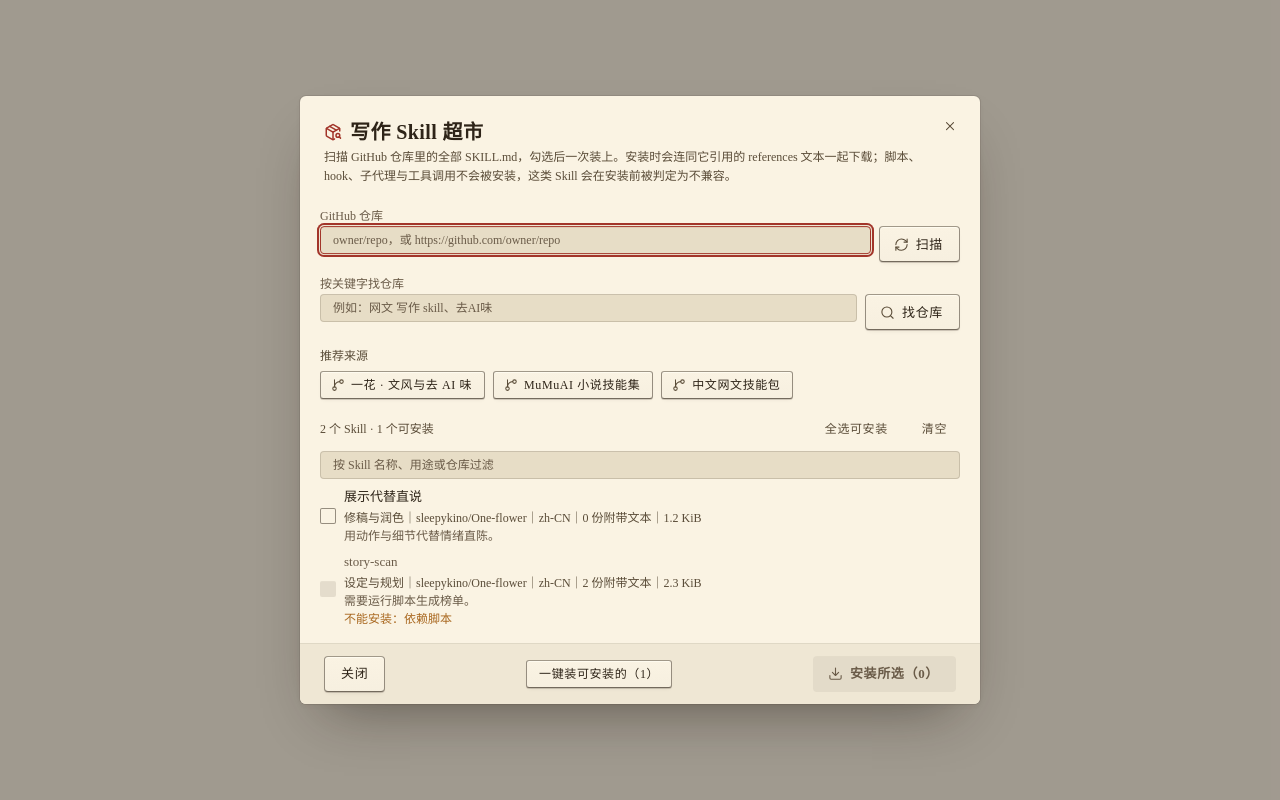
写作 Skill 超市 › 全选可安装的条目，确认后逐个检查并安装
The image size is (1280, 800).
In the field labelled "GitHub 仓库": (595, 240) top-left (320, 226), bottom-right (871, 254), type "sleepykino/One-flower"
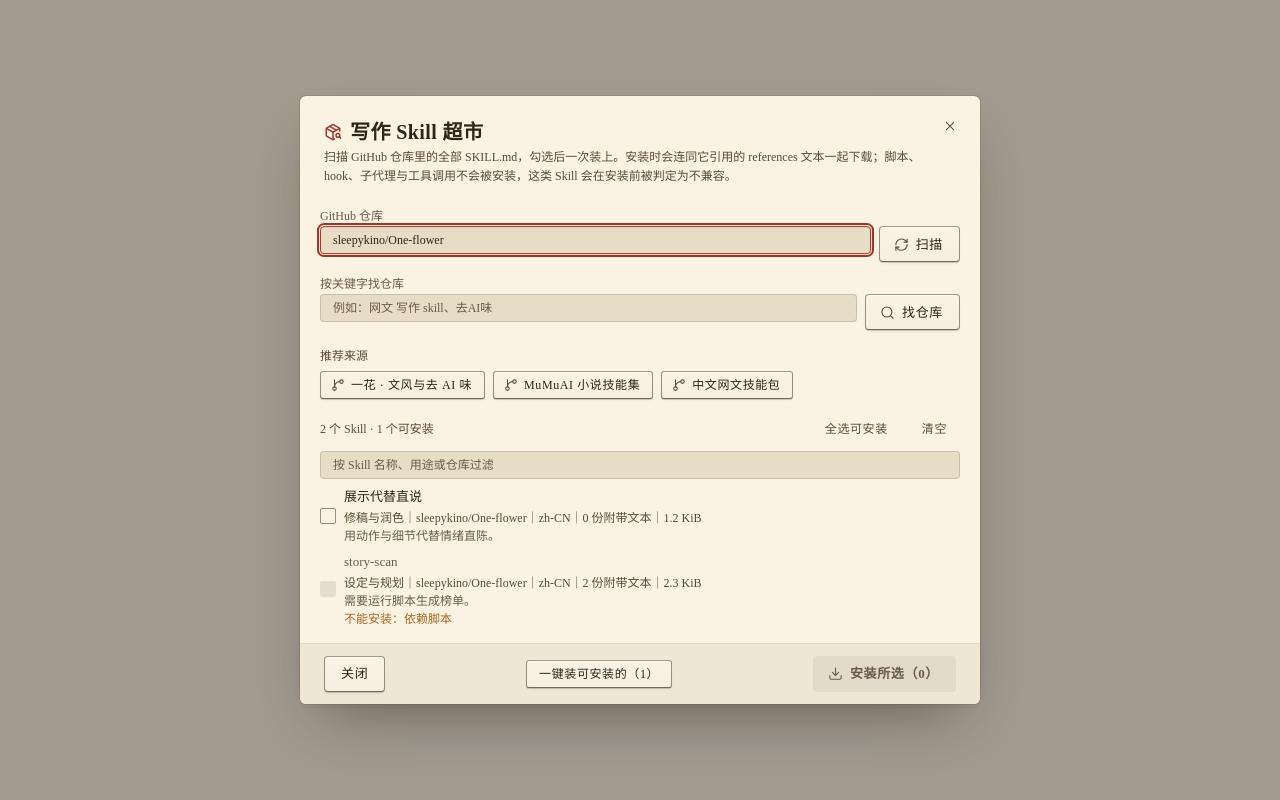
Click the button "扫描": (919, 244) top-left (879, 226), bottom-right (960, 262)
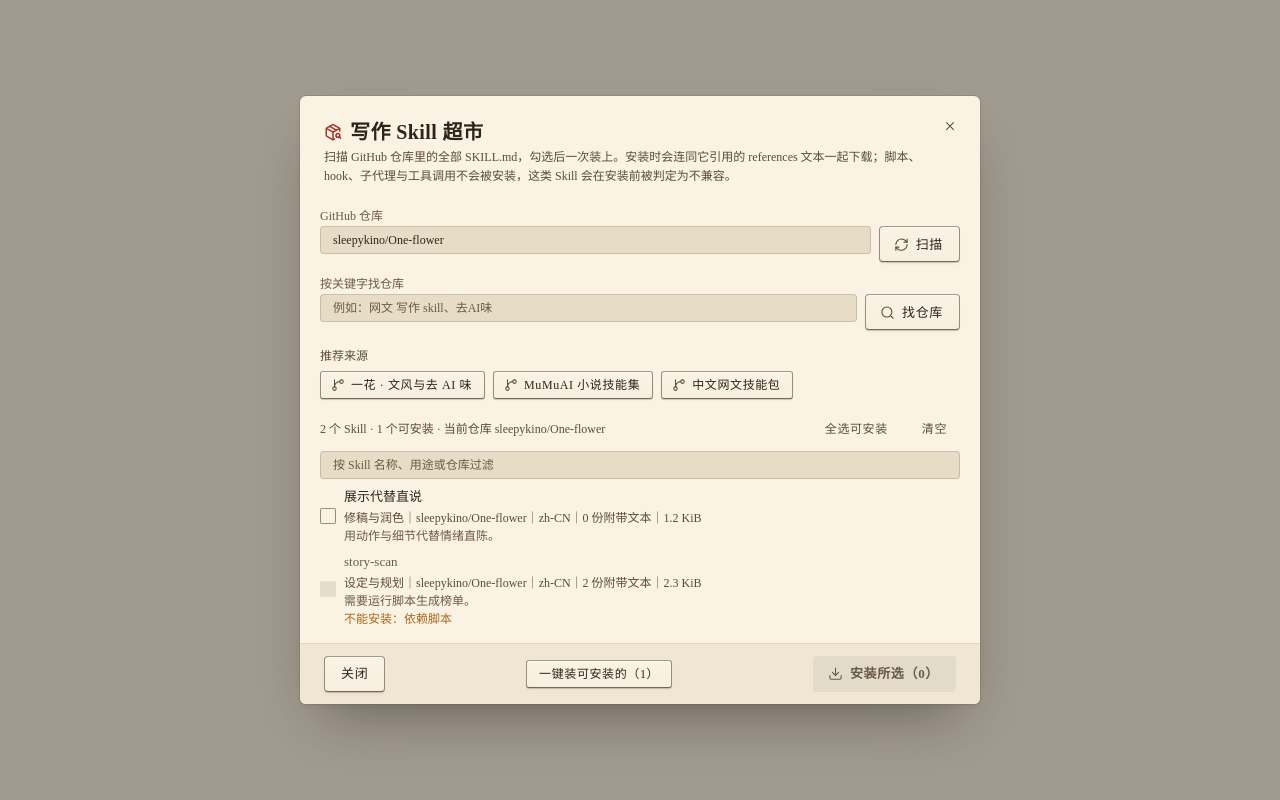
expect the text "展示代替直说" is shown: met, box top-left (344, 489), bottom-right (422, 504)
Click the button "全选可安装": (856, 429) top-left (812, 415), bottom-right (901, 443)
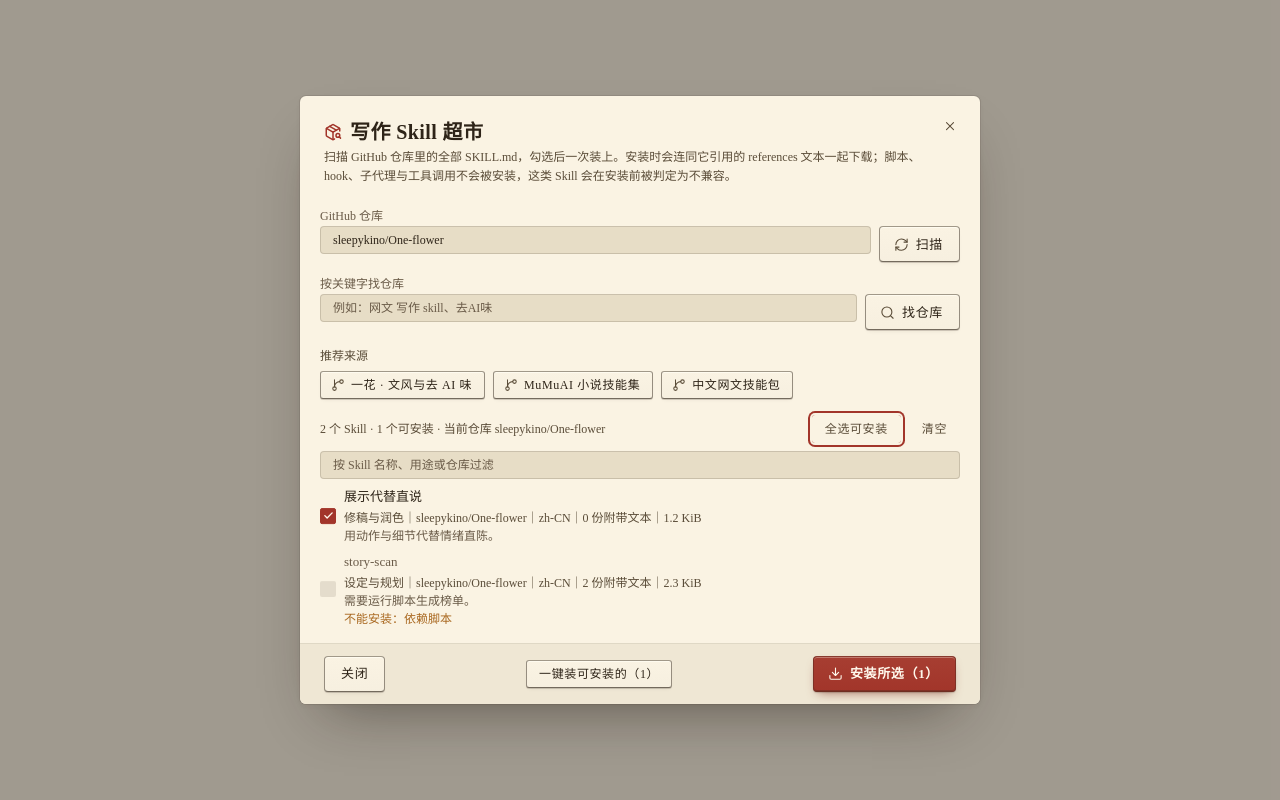
expect the button "安装所选（1）" is enabled: met
Click the button "安装所选（1）": (884, 674) top-left (813, 656), bottom-right (956, 692)
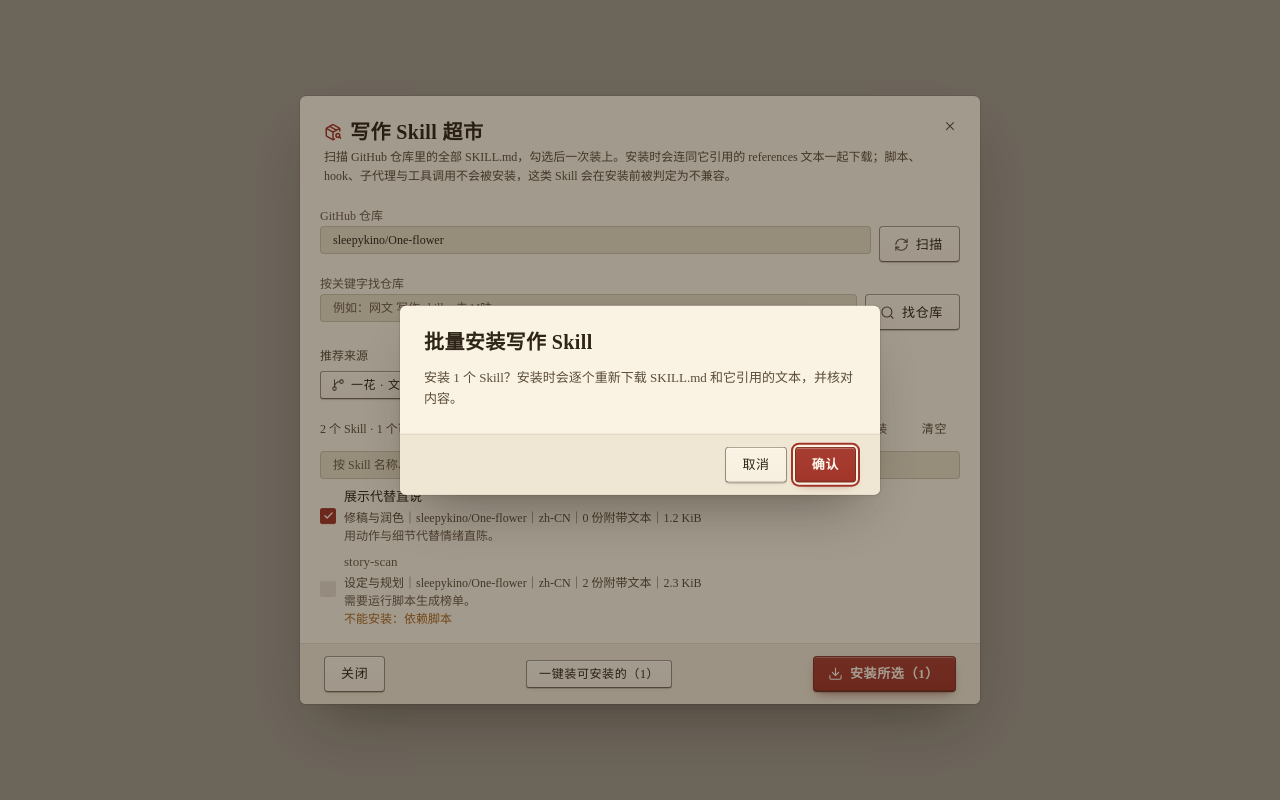
Click the button "确认": (825, 464) top-left (795, 446), bottom-right (856, 482)
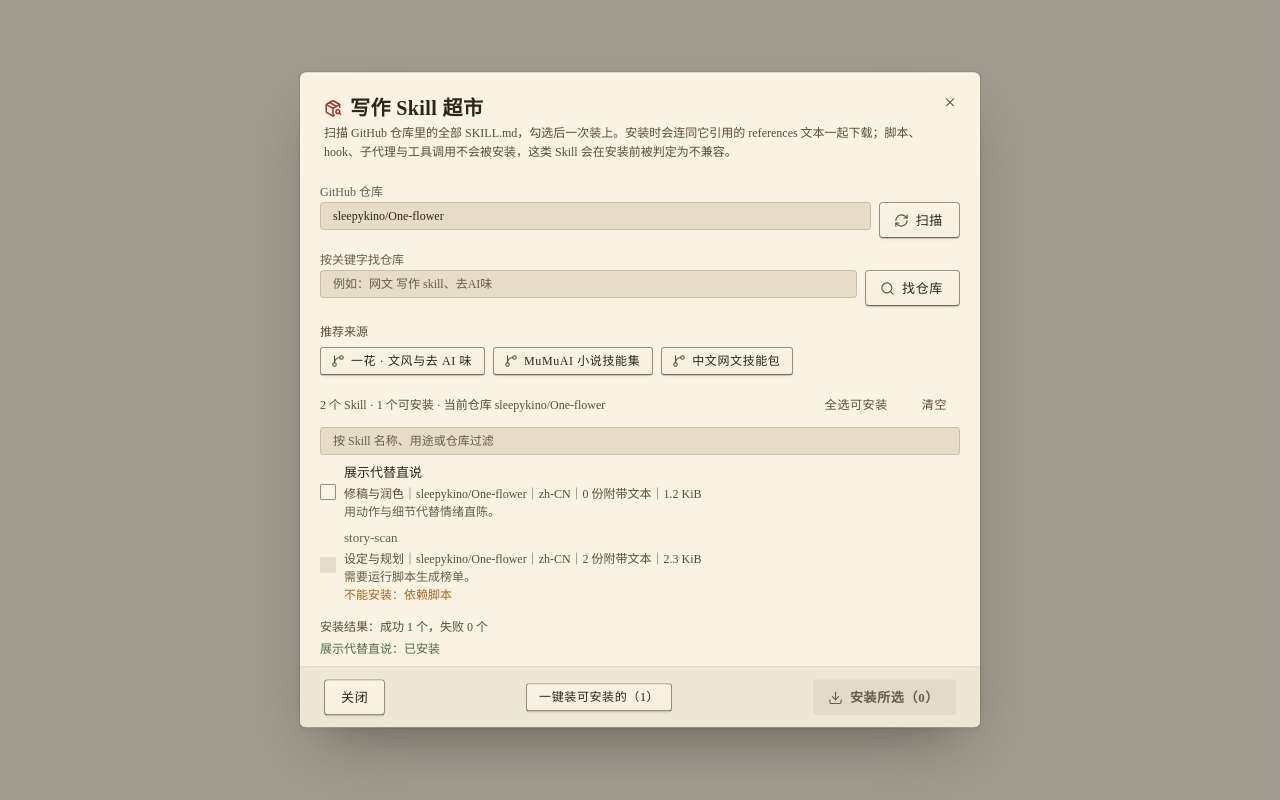
expect the text "安装结果：成功 1 个，失败 0 个" is shown: met, box top-left (320, 620), bottom-right (488, 634)
